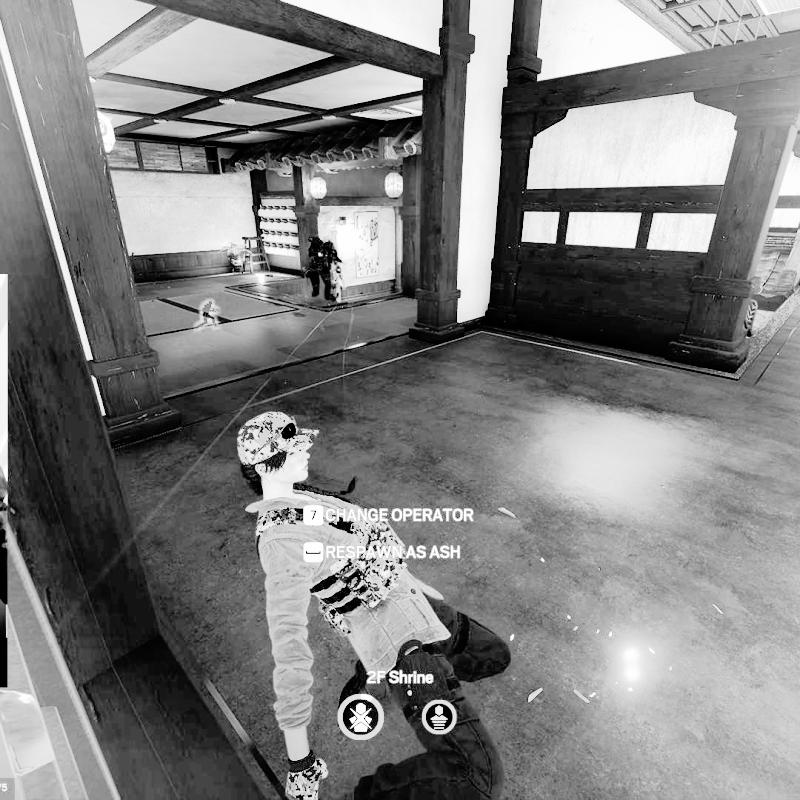Character: (232, 404, 516, 799), (306, 227, 348, 303), (335, 264, 344, 293)
Head: (236, 410, 321, 494), (318, 228, 332, 241), (335, 267, 343, 275)
